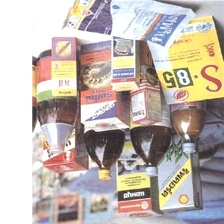carton: (76, 37, 132, 135), (152, 120, 205, 216), (40, 86, 92, 175), (115, 136, 165, 221), (128, 61, 163, 127), (48, 35, 79, 98), (109, 31, 141, 92)
insecticide: (52, 0, 202, 53), (145, 12, 224, 109), (34, 47, 79, 157), (124, 77, 172, 178), (79, 90, 126, 182), (172, 81, 208, 158)
